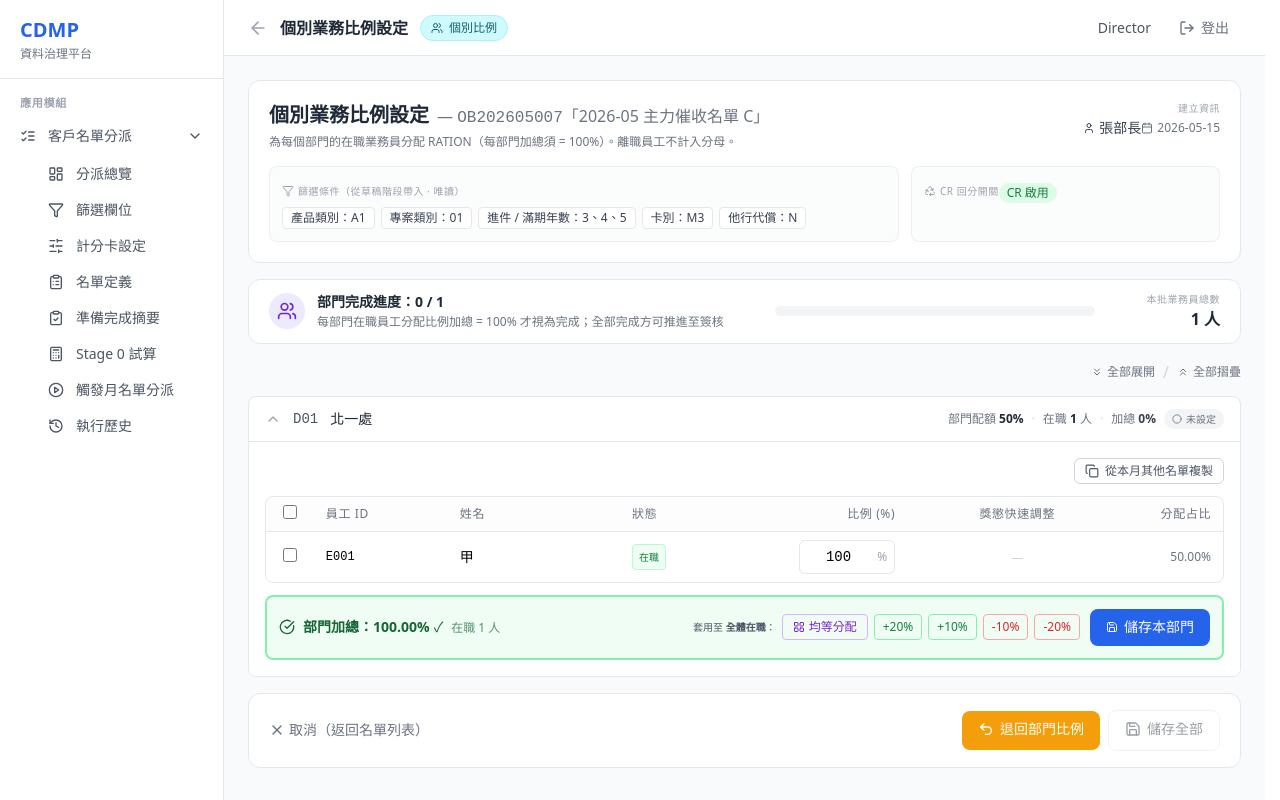
Test: PersonnelRatioConfigPage (29b) › 部門有在職員工時顯示「從本月其他名單複製」按鈕，點擊載入來源
Click the button with test id "btn-copy-from-list-D01". click: [1149, 470]
box: [1074,458,1224,484]
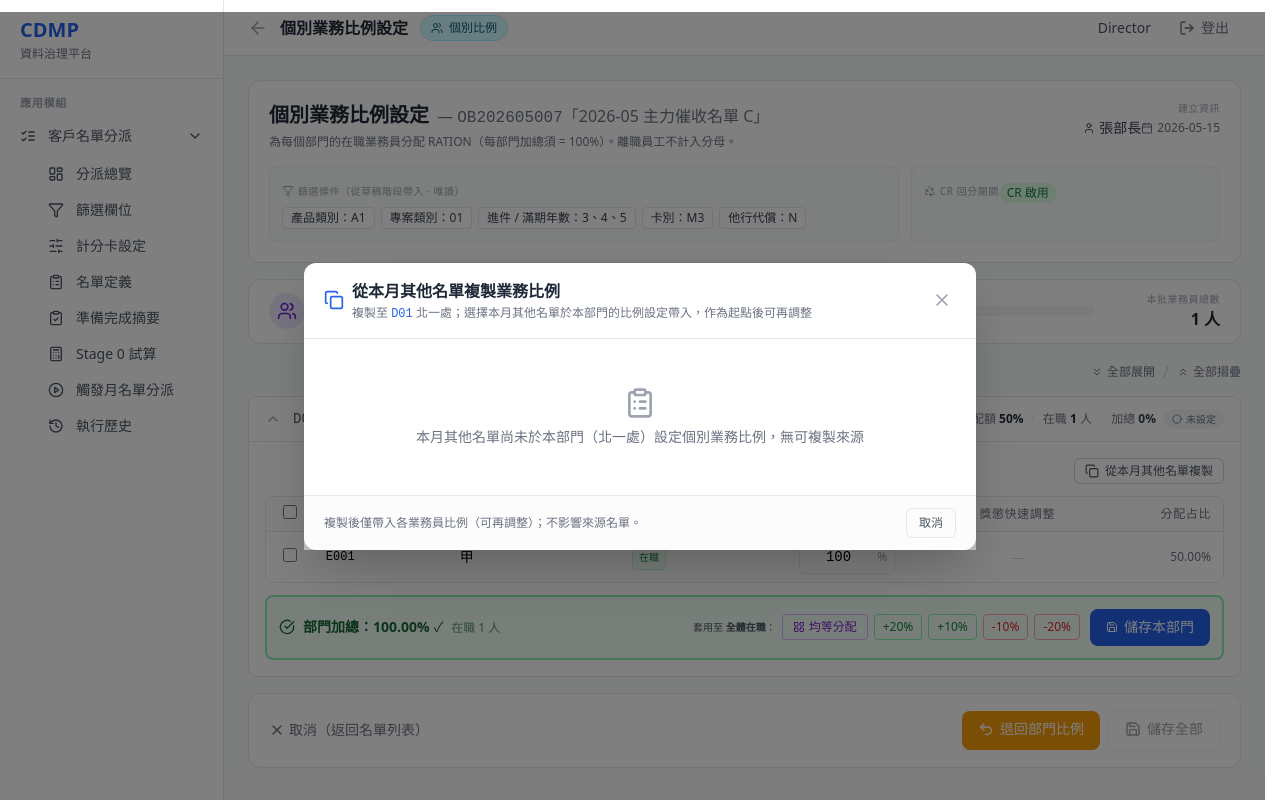
Expected: the element with test id "copy-dept-modal-empty" is shown, [416,386,864,446]
